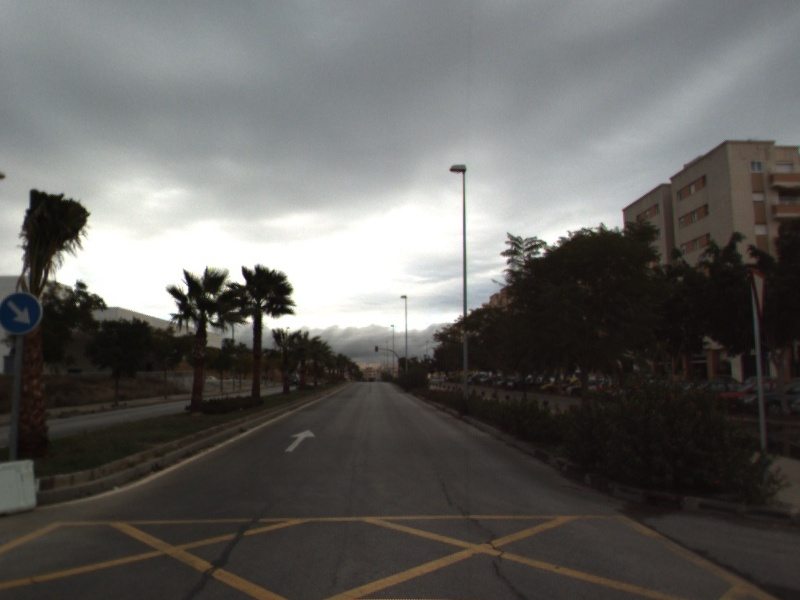STRAIGHT: (283, 427, 317, 453)
